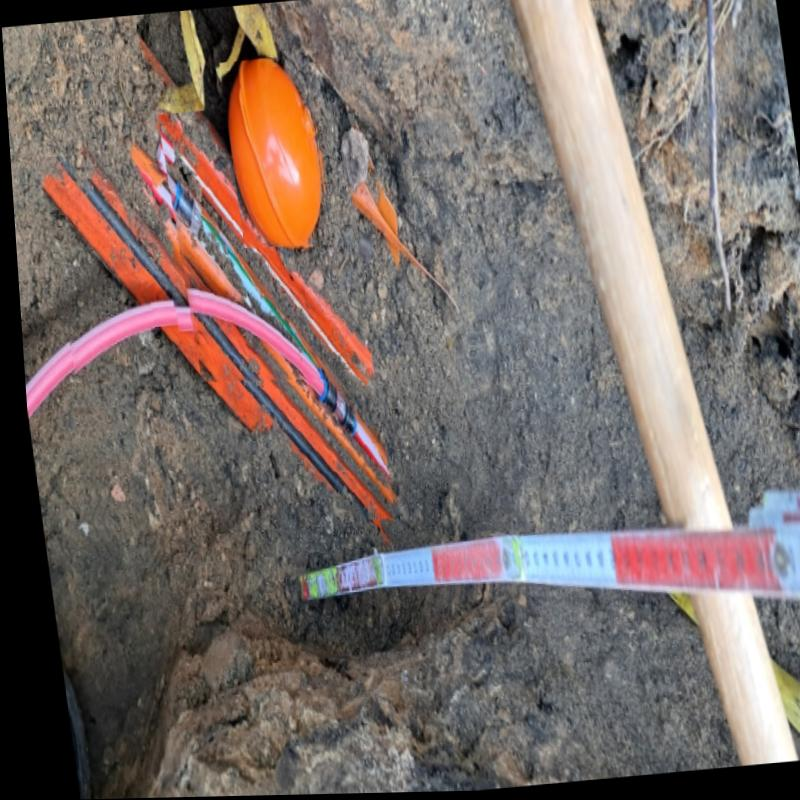Kugelmarker: (225, 59, 319, 247)
Orang-Speednetrohrchen: (39, 164, 375, 546), (146, 165, 386, 510), (159, 114, 356, 380)
